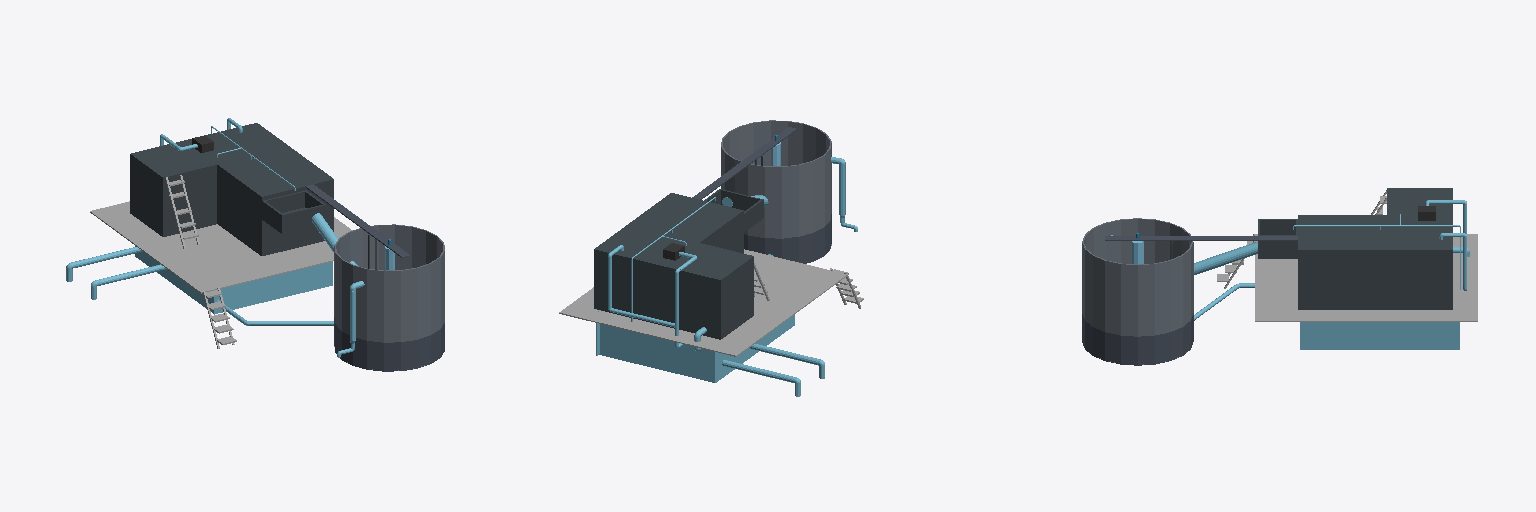
File: heavy_medium.obj
The picture shows the model from 3 angles: view 1: azimuth 30°, elevation 25°; view 2: azimuth 150°, elevation 25°; view 3: azimuth 270°, elevation 25°; orthographic projection.
Visible parts, largest first — view 1: __, ___.2, ___, ___.28, ___.5, ___.8, ___.3, ___.9, __.8, ___.4; view 2: __, ___.5, ___.2, ___, ___.6, ___.9, ___.3, __.8, ___.28; view 3: __, ___, ___.2, ___.5, ___.7, ___.28, ___.3, __.2, ___.4.
Boxes of the visible parts, <box> form: __: <box>66,224,444,371</box>; ___.2: <box>90,184,410,310</box>; ___: <box>180,147,376,333</box>; ___.28: <box>131,123,287,236</box>; ___.5: <box>130,124,289,348</box>; ___.8: <box>215,262,332,313</box>; ___.3: <box>183,135,325,344</box>; ___.9: <box>135,175,214,314</box>; __.8: <box>74,247,166,285</box>; ___.4: <box>169,192,322,297</box>; __: <box>721,120,845,396</box>; ___.5: <box>594,225,860,339</box>; ___.2: <box>559,127,852,356</box>; ___: <box>628,160,859,297</box>; ___.6: <box>599,268,846,382</box>; ___.9: <box>715,293,794,382</box>; ___.3: <box>663,189,863,303</box>; __.8: <box>608,306,817,382</box>; ___.28: <box>595,225,753,306</box>; __: <box>1082,218,1193,365</box>; ___: <box>1172,215,1399,309</box>; ___.2: <box>1105,234,1477,321</box>; ___.5: <box>1228,188,1452,309</box>; ___.7: <box>1300,190,1459,349</box>; ___.28: <box>1387,188,1452,309</box>; ___.3: <box>1217,206,1435,281</box>; __.2: <box>1194,242,1257,274</box>; ___.4: <box>1247,207,1382,244</box>.
Bounding box in the file's own units: 5482 × 2695 × 8464.